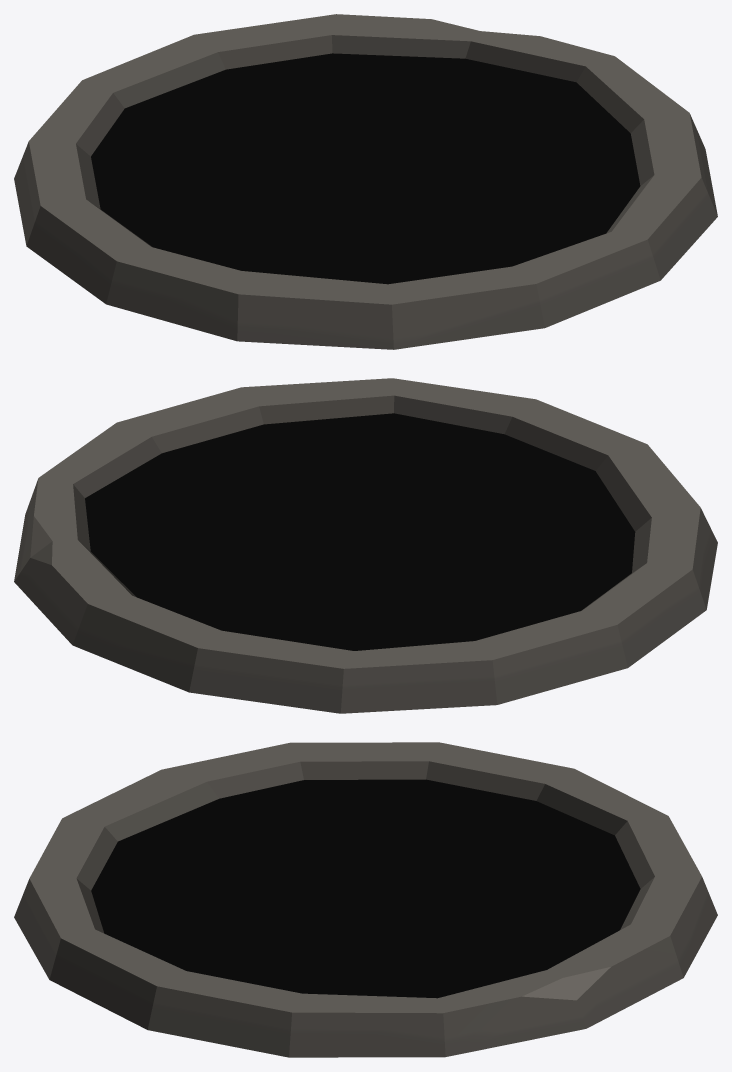
Rendered from apoc_SM_Prop_Manhole_Hole_01.gltf.
3 views of the same model, one above another, from view 1: azimuth 30°, elevation 25°; view 2: azimuth 150°, elevation 25°; view 3: azimuth 270°, elevation 25° (orthographic).
Parts seen in each view (by area): view 1: SM_Prop_Manhole_Hole_01; view 2: SM_Prop_Manhole_Hole_01; view 3: SM_Prop_Manhole_Hole_01.
Boxes of the visible parts, x1,y1,x2,y2 form: SM_Prop_Manhole_Hole_01: (14,14,717,349); SM_Prop_Manhole_Hole_01: (14,378,717,713); SM_Prop_Manhole_Hole_01: (14,742,717,1057).
Size of the model in its own units: 1.17 by 0.0868 by 1.2.
Materials: 1 (1 with a texture image).
